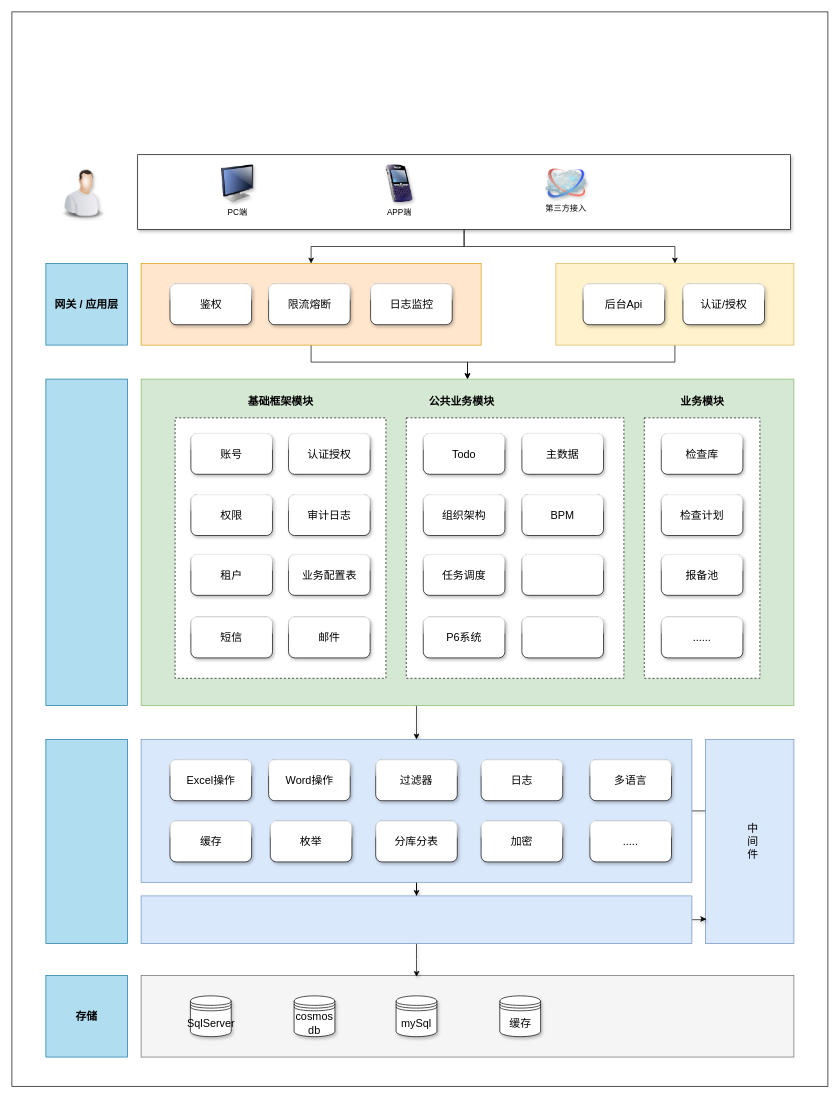
Image size: 840x1098. Some labels were removed from this diagram. Here are the shapes that lost their labels. From the top down, the centre of each, then its label:
At pixel 86 542: "服务层".
At pixel 86 841: "基础设施层".
At pixel 416 919: "仓储".
